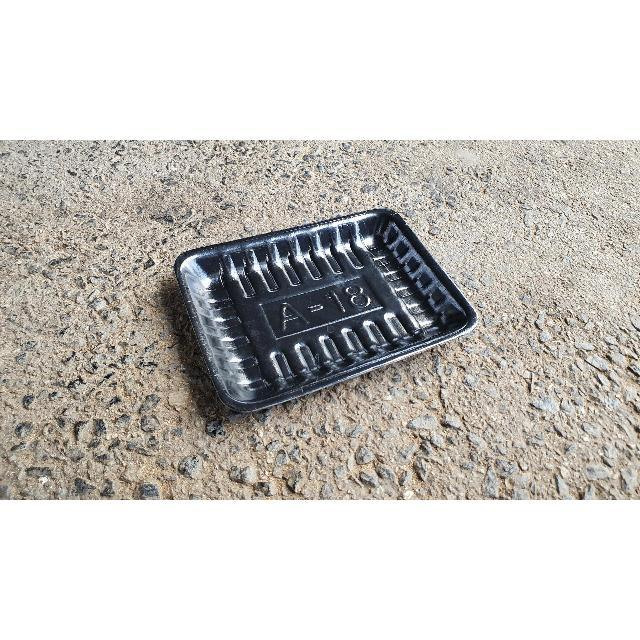Recipiente plastico: (175, 209, 474, 411)
